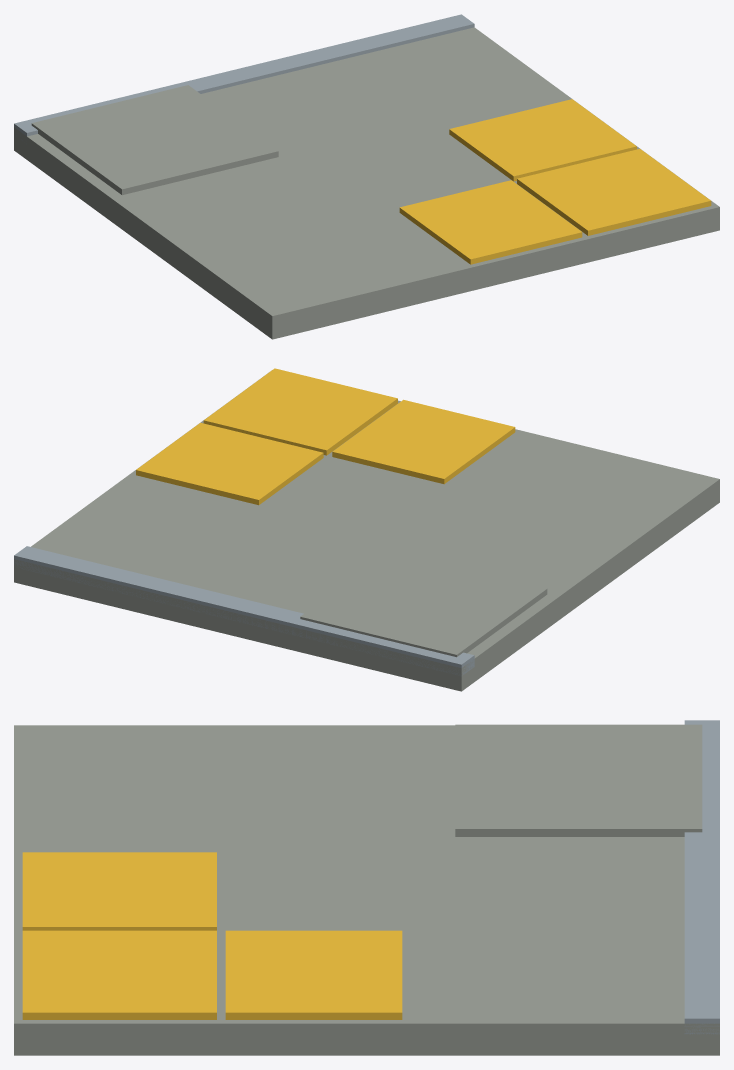
The model's file is corner.gltf.
The picture shows the model from 3 angles, top to bottom: view 1: azimuth 30°, elevation 25°; view 2: azimuth 150°, elevation 25°; view 3: azimuth 270°, elevation 25°; orthographic projection. The views are drawn at different scales.
Parts seen in each view (by area): view 1: corner; view 2: corner; view 3: corner.
Part boxes in pixels (x1,y1,x2,y2): corner: (14, 14, 719, 339); corner: (14, 368, 719, 691); corner: (14, 720, 719, 1055).
Bounding box in the file's own units: 4 × 0.25 × 4.
1 material, 1 textured.
